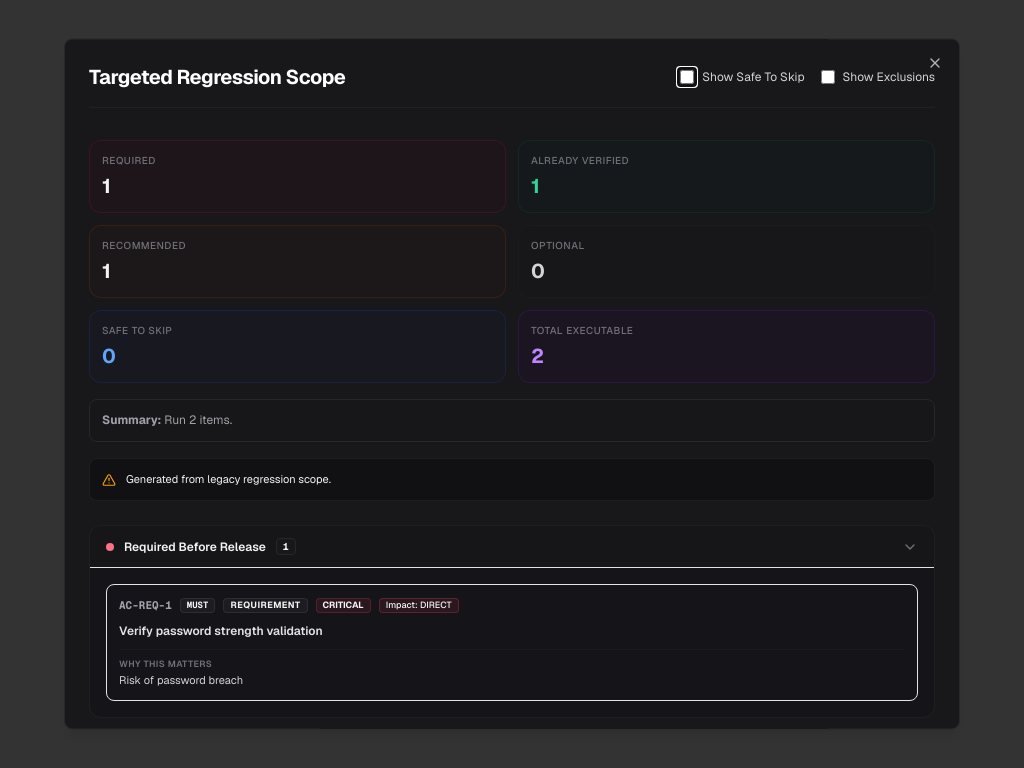
it: TargetedScopeModal Rendering › Exclusions visible when toggle enabled
The width and height of the screenshot is (1024, 768).
Note: Toggle exclusions
Click the checkbox labelled "Show Exclusions".
click(828, 77)  # box [820,70,834,84]
(page scrolled)
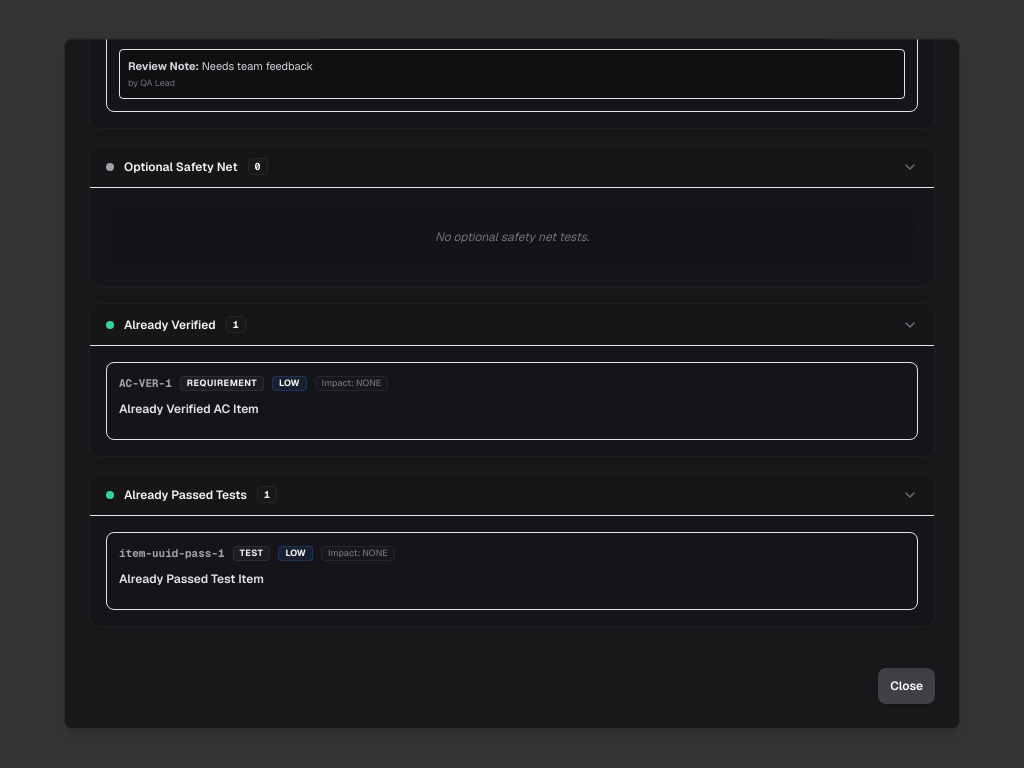
Expected: the heading "Already Verified AC Item" is shown, [119,401,259,417]
Expected: the heading "Already Passed Test Item" is shown, [119,571,264,587]
